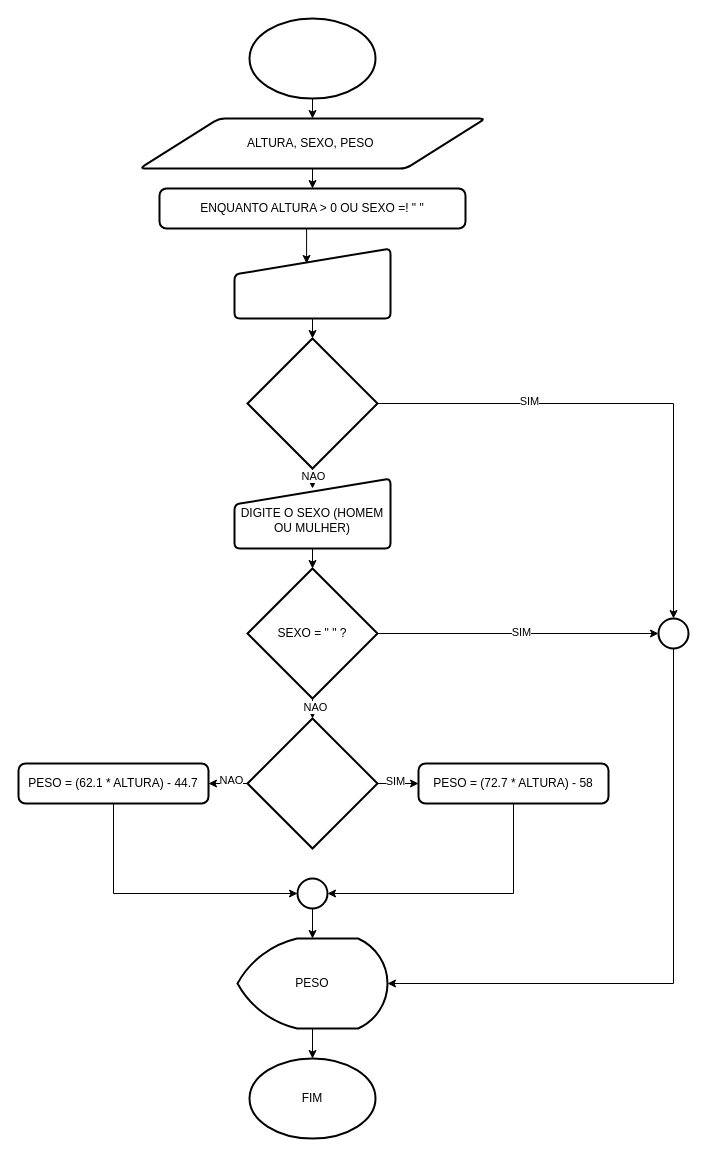
The diagram is 706 pixels wide and 1156 high, and some of its shapes have lost their labels. Here are the shapes that lost their labels. From the top down, the box of each, then its label:
(248, 17, 376, 99): INICIO
(233, 247, 391, 319): DIGITE ALTURA (OU 0 PARA SAIR)
(246, 337, 378, 469): ALTURA = 0 ?
(246, 717, 378, 849): SEXO = HOMEM ?
